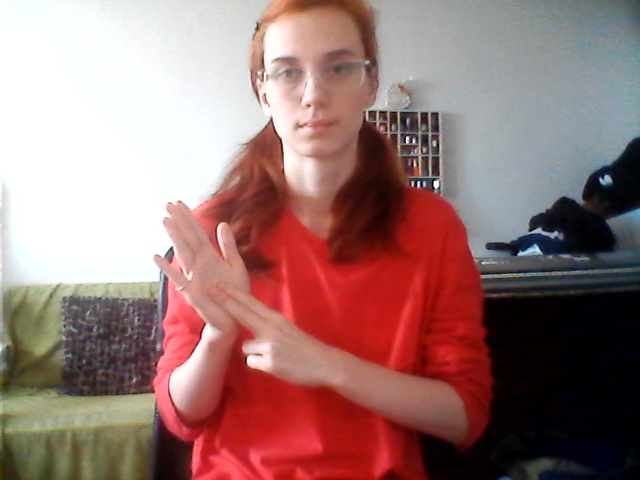n: (144, 198, 319, 382)
